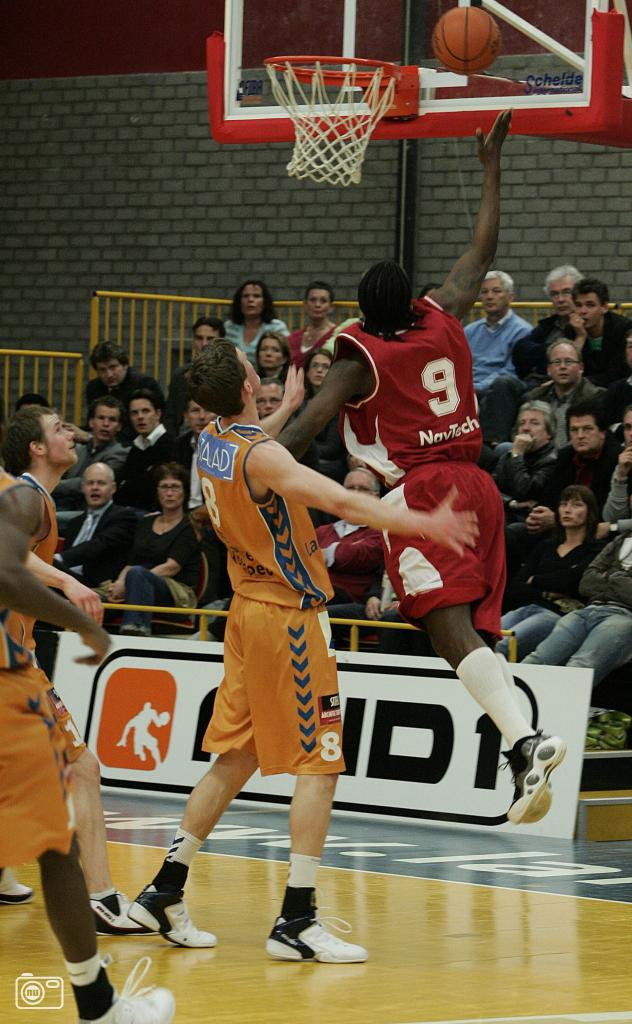basketball: (428, 7, 505, 75)
